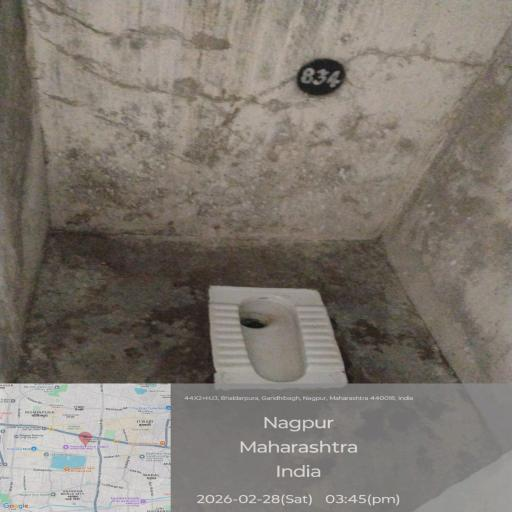dirty_floor: (0, 0, 512, 250), (35, 240, 471, 378)
dirty_indian: (210, 287, 345, 385)
